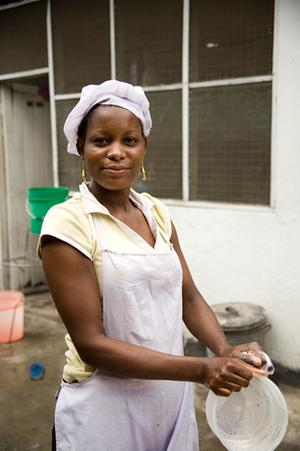person: (35, 77, 267, 450)
